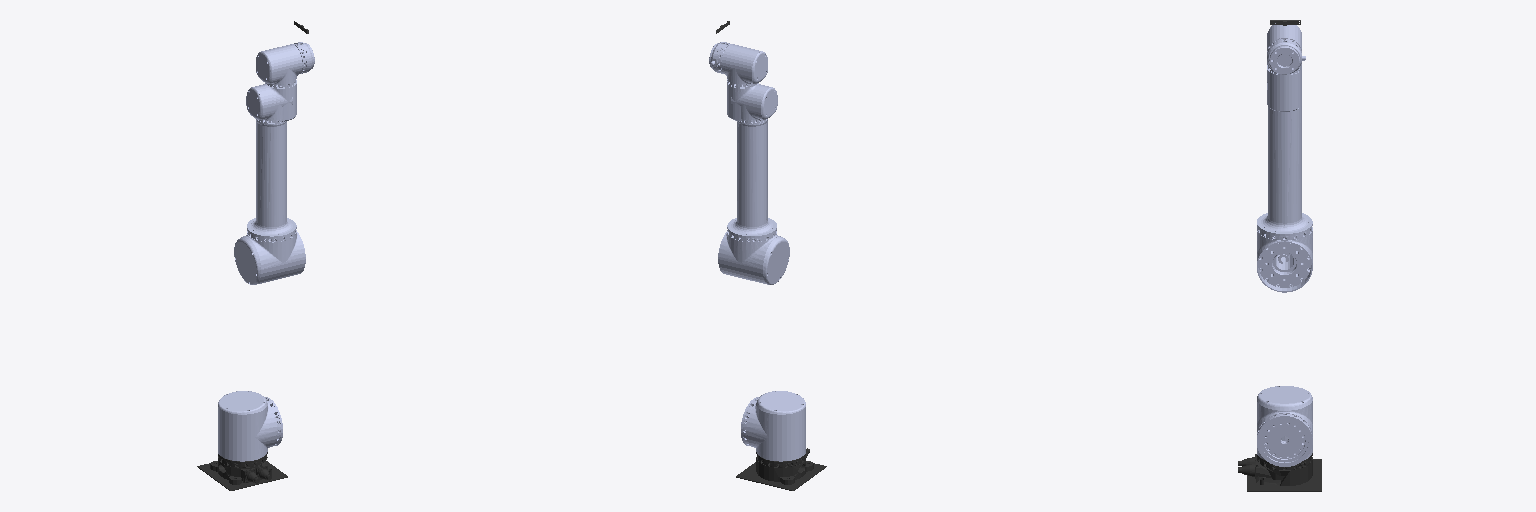
URDF robot description (ArmProjectCts):
<?xml version="1.0" encoding="utf-8"?>
<!-- This URDF was automatically created by SolidWorks to URDF Exporter! Originally created by [author] ([email redacted]) 
     Commit Version: 1.6.0-4-g7f85cfe  Build Version: 1.6.7995.38578
     For more information, please see http://wiki.ros.org/sw_urdf_exporter -->
<robot
  name="ArmProjectCts">
  <link
    name="arm_Link">
    <inertial>
      <origin
        xyz="0.0774467389010605 -0.0991297507644123 0.00690900212781973"
        rpy="0 0 0" />
      <mass
        value="0.232294593893707" />
      <inertia
        ixx="0.000284763775202596"
        ixy="5.76143636877517E-07"
        ixz="8.13848254440404E-08"
        iyy="0.000281741093315608"
        iyz="-8.14675787240042E-08"
        izz="0.00056118833146299" />
    </inertial>
    <visual>
      <origin
        xyz="0 0 0"
        rpy="0 0 0" />
      <geometry>
        <mesh
          filename="package://arm_description/meshes/arm_Link.STL" />
      </geometry>
      <material
        name="">
        <color
          rgba="0.250980392156863 0.250980392156863 0.250980392156863 1" />
      </material>
    </visual>
    <collision>
      <origin
        xyz="0 0 0"
        rpy="0 0 0" />
      <geometry>
        <mesh
          filename="package://arm_description/meshes/arm_Link.STL" />
      </geometry>
    </collision>
  </link>
  <link
    name="j1_Link">
    <inertial>
      <origin
        xyz="-0.00719467239022037 0.0669939976973893 0.00516422430945274"
        rpy="0 0 0" />
      <mass
        value="1.13778569832606" />
      <inertia
        ixx="0.00213539398935997"
        ixy="4.6913818851202E-05"
        ixz="3.27183343619397E-05"
        iyy="0.00208311881275953"
        iyz="-3.29509590297081E-05"
        izz="0.00215553946331751" />
    </inertial>
    <visual>
      <origin
        xyz="0 0 0"
        rpy="0 0 0" />
      <geometry>
        <mesh
          filename="package://arm_description/meshes/j1_Link.STL" />
      </geometry>
      <material
        name="">
        <color
          rgba="0.792156862745098 0.819607843137255 0.933333333333333 1" />
      </material>
    </visual>
    <collision>
      <origin
        xyz="0 0 0"
        rpy="0 0 0" />
      <geometry>
        <mesh
          filename="package://arm_description/meshes/j1_Link.STL" />
      </geometry>
    </collision>
  </link>
  <joint
    name="j1"
    type="continuous">
    <origin
      xyz="0.0774999999999998 -0.0775 0.0388999999999997"
      rpy="1.5707963267949 0 2.51744046366525" />
    <parent
      link="arm_Link" />
    <child
      link="j1_Link" />
    <axis
      xyz="0 1 0" />
  </joint>
  <link
    name="j2_Link">
    <inertial>
      <origin
        xyz="7.37454684970884E-07 -0.212502487457448 0.0680174435124814"
        rpy="0 0 0" />
      <mass
        value="2.706624786604" />
      <inertia
        ixx="0.00980555664449831"
        ixy="1.63201995488843E-06"
        ixz="1.39358759235722E-07"
        iyy="0.00504716577291593"
        iyz="3.65307715636619E-10"
        izz="0.00961310385534479" />
    </inertial>
    <visual>
      <origin
        xyz="0 0 0"
        rpy="0 0 0" />
      <geometry>
        <mesh
          filename="package://arm_description/meshes/j2_Link.STL" />
      </geometry>
      <material
        name="">
        <color
          rgba="0.792156862745098 0.819607843137255 0.933333333333333 1" />
      </material>
    </visual>
    <collision>
      <origin
        xyz="0 0 0"
        rpy="0 0 0" />
      <geometry>
        <mesh
          filename="package://arm_description/meshes/j2_Link.STL" />
      </geometry>
    </collision>
  </link>
  <joint
    name="j2"
    type="continuous">
    <origin
      xyz="-0.0491744080889805 0.0734000000000008 0.0354152169144622"
      rpy="0 0.946644136870351 3.14159265358979" />
    <parent
      link="j1_Link" />
    <child
      link="j2_Link" />
    <axis
      xyz="0 0 1" />
  </joint>
  <link
    name="j3_Link">
    <inertial>
      <origin
        xyz="4.11768821524661E-06 0.136177235047512 0.0441508655223075"
        rpy="0 0 0" />
      <mass
        value="1.64557213465188" />
      <inertia
        ixx="0.00618748643733677"
        ixy="7.88299735474947E-07"
        ixz="-3.06529566536074E-07"
        iyy="0.00216040501406518"
        iyz="2.39272845967853E-05"
        izz="0.00663809869457107" />
    </inertial>
    <visual>
      <origin
        xyz="0 0 0"
        rpy="0 0 0" />
      <geometry>
        <mesh
          filename="package://arm_description/meshes/j3_Link.STL" />
      </geometry>
      <material
        name="">
        <color
          rgba="0.792156862745098 0.819607843137255 0.933333333333333 1" />
      </material>
    </visual>
    <collision>
      <origin
        xyz="0 0 0"
        rpy="0 0 0" />
      <geometry>
        <mesh
          filename="package://arm_description/meshes/j3_Link.STL" />
      </geometry>
    </collision>
  </link>
  <joint
    name="j3"
    type="continuous">
    <origin
      xyz="0 -0.425 0"
      rpy="3.14159265358979 0 0" />
    <parent
      link="j2_Link" />
    <child
      link="j3_Link" />
    <axis
      xyz="0 0 1" />
  </joint>
  <link
    name="j4_Link">
    <inertial>
      <origin
        xyz="2.65905320264992E-05 -0.000338911001806053 0.0370989318213302"
        rpy="0 0 0" />
      <mass
        value="0.324727718002135" />
      <inertia
        ixx="0.000252393198905222"
        ixy="-1.13897192397996E-07"
        ixz="-1.06266705917643E-07"
        iyy="0.000266500312719547"
        iyz="4.95603027934183E-07"
        izz="0.0002414675974941" />
    </inertial>
    <visual>
      <origin
        xyz="0 0 0"
        rpy="0 0 0" />
      <geometry>
        <mesh
          filename="package://arm_description/meshes/j4_Link.STL" />
      </geometry>
      <material
        name="">
        <color
          rgba="0.792156862745098 0.819607843137255 0.933333333333333 1" />
      </material>
    </visual>
    <collision>
      <origin
        xyz="0 0 0"
        rpy="0 0 0" />
      <geometry>
        <mesh
          filename="package://arm_description/meshes/j4_Link.STL" />
      </geometry>
    </collision>
  </link>
  <joint
    name="j4"
    type="continuous">
    <origin
      xyz="0 0.401 0"
      rpy="3.14159263868863 0 0" />
    <parent
      link="j3_Link" />
    <child
      link="j4_Link" />
    <axis
      xyz="0 0 1" />
  </joint>
  <link
    name="j5_Link">
    <inertial>
      <origin
        xyz="-2.80611665418734E-05 -0.0446665067516046 -0.00028846278241848"
        rpy="0 0 0" />
      <mass
        value="0.307352171858084" />
      <inertia
        ixx="0.000240942908540402"
        ixy="-1.06584815003141E-07"
        ixz="-1.11953760926973E-07"
        iyy="0.000226353024923394"
        iyz="-2.05710584879931E-07"
        izz="0.000260637787894178" />
    </inertial>
    <visual>
      <origin
        xyz="0 0 0"
        rpy="0 0 0" />
      <geometry>
        <mesh
          filename="package://arm_description/meshes/j5_Link.STL" />
      </geometry>
      <material
        name="">
        <color
          rgba="0.792156862745098 0.819607843137255 0.933333333333333 1" />
      </material>
    </visual>
    <collision>
      <origin
        xyz="0 0 0"
        rpy="0 0 0" />
      <geometry>
        <mesh
          filename="package://arm_description/meshes/j5_Link.STL" />
      </geometry>
    </collision>
  </link>
  <joint
    name="j5"
    type="continuous">
    <origin
      xyz="0 -0.0374999756318092 0.0423999994412073"
      rpy="0 0 0" />
    <parent
      link="j4_Link" />
    <child
      link="j5_Link" />
    <axis
      xyz="0 -1 0" />
  </joint>
  <link
    name="j6_Link">
    <inertial>
      <origin
        xyz="-0.000337775360231829 0.000125548461417394 -0.0168048529947492"
        rpy="0 0 0" />
      <mass
        value="0.104910783608116" />
      <inertia
        ixx="4.37467245976093E-05"
        ixy="7.10729413749577E-09"
        ixz="1.28736608812063E-07"
        iyy="4.38269357529175E-05"
        iyz="-1.5581629539834E-08"
        izz="7.42996195485146E-05" />
    </inertial>
    <visual>
      <origin
        xyz="0 0 0"
        rpy="0 0 0" />
      <geometry>
        <mesh
          filename="package://arm_description/meshes/j6_Link.STL" />
      </geometry>
      <material
        name="">
        <color
          rgba="0.792156862745098 0.819607843137255 0.933333333333333 1" />
      </material>
    </visual>
    <collision>
      <origin
        xyz="0 0 0"
        rpy="0 0 0" />
      <geometry>
        <mesh
          filename="package://arm_description/meshes/j6_Link.STL" />
      </geometry>
    </collision>
  </link>
  <joint
    name="j6"
    type="continuous">
    <origin
      xyz="0 -0.0485 0.0375"
      rpy="3.1416 0 -1.5708" />
    <parent
      link="j5_Link" />
    <child
      link="j6_Link" />
    <axis
      xyz="0 0 -1" />
  </joint>
  <link
    name="camera_Link">
    <inertial>
      <origin
        xyz="0.026783320529774 0.00170482151528056 -0.00450738744405443"
        rpy="0 0 0" />
      <mass
        value="0.00120400775794929" />
      <inertia
        ixx="1.08995892811636E-08"
        ixy="5.53858781662745E-09"
        ixz="-1.47501006999919E-10"
        iyy="3.35070792414804E-07"
        iyz="-9.82687910821679E-12"
        izz="3.30027337385834E-07" />
    </inertial>
    <visual>
      <origin
        xyz="0 0 0"
        rpy="0 0 0" />
      <geometry>
        <mesh
          filename="package://arm_description/meshes/camera_Link.STL" />
      </geometry>
      <material
        name="">
        <color
          rgba="0.298039215686275 0.298039215686275 0.298039215686275 1" />
      </material>
    </visual>
    <collision>
      <origin
        xyz="0 0 0"
        rpy="0 0 0" />
      <geometry>
        <mesh
          filename="package://arm_description/meshes/camera_Link.STL" />
      </geometry>
    </collision>
  </link>
  <joint
    name="camera"
    type="fixed">
    <origin
      xyz="0.073713 -0.0295 -0.0145"
      rpy="-1.5708 0 1.5708" />
    <parent
      link="j6_Link" />
    <child
      link="camera_Link" />
    <axis
      xyz="0 0 0" />
  </joint>
</robot>

--- Render facts (derived) ---
3 views of the same robot in one strip: view 1: azimuth 30°, elevation 25°; view 2: azimuth 150°, elevation 25°; view 3: azimuth 270°, elevation 25° (orthographic).
Model ArmProjectCts with 8 links and 7 joints (6 continuous, 1 fixed), rooted at arm_Link, posed all joints at 0.
Links seen in each view (by area): view 1: j3_Link, j1_Link, arm_Link, j5_Link, j4_Link; view 2: j3_Link, j1_Link, arm_Link, j5_Link, j4_Link; view 3: j3_Link, j1_Link, arm_Link, j4_Link, j6_Link, j5_Link.
Link boxes in pixels (x1,y1,x2,y2): j3_Link: [234, 85, 305, 284]; j1_Link: [218, 391, 282, 461]; arm_Link: [197, 452, 287, 490]; j5_Link: [256, 44, 302, 87]; j4_Link: [263, 83, 296, 121]; j3_Link: [718, 84, 789, 284]; j1_Link: [741, 391, 805, 461]; arm_Link: [736, 448, 826, 490]; j5_Link: [721, 44, 767, 87]; j4_Link: [727, 83, 759, 121]; j3_Link: [1257, 82, 1312, 292]; j1_Link: [1257, 386, 1312, 466]; arm_Link: [1238, 453, 1321, 491]; j4_Link: [1267, 69, 1301, 111]; j6_Link: [1267, 38, 1305, 74]; j5_Link: [1267, 23, 1301, 74].
Size in the robot's own frame: 0.253 by 0.1745 by 1.11 metres.
Meshes: 8 distinct files referenced, 7 mesh visuals loaded (7 binary STL); not drawn: 1 (reference not matched to a file when rendering).